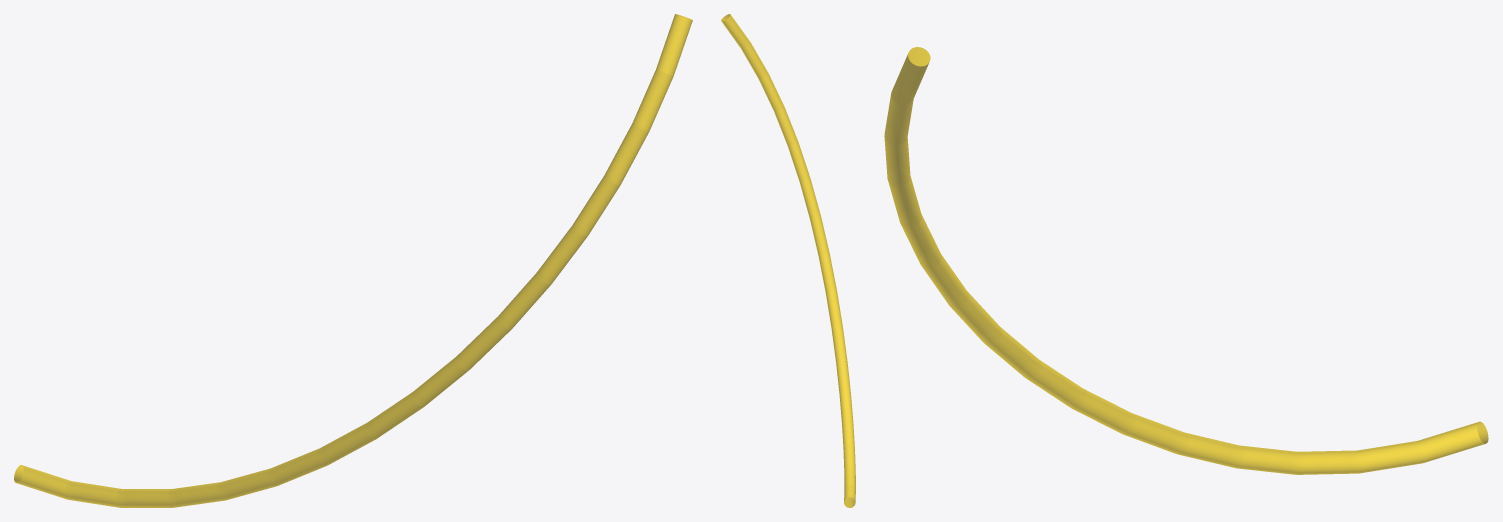
File: Event_17758602_track_127.fbx
The picture shows the model from 3 angles, left to right: view 1: azimuth 30°, elevation 25°; view 2: azimuth 150°, elevation 25°; view 3: azimuth 270°, elevation 25°; orthographic projection. The views are drawn at different scales.
Visible parts, largest first — view 1: Model; view 2: Model; view 3: Model.
Boxes of the visible parts, x1,y1,x2,y2 form: Model: (14, 14, 692, 507); Model: (721, 14, 855, 507); Model: (884, 47, 1488, 474).
Size of the model in its own units: 1.09 by 1.25 by 1.04.
